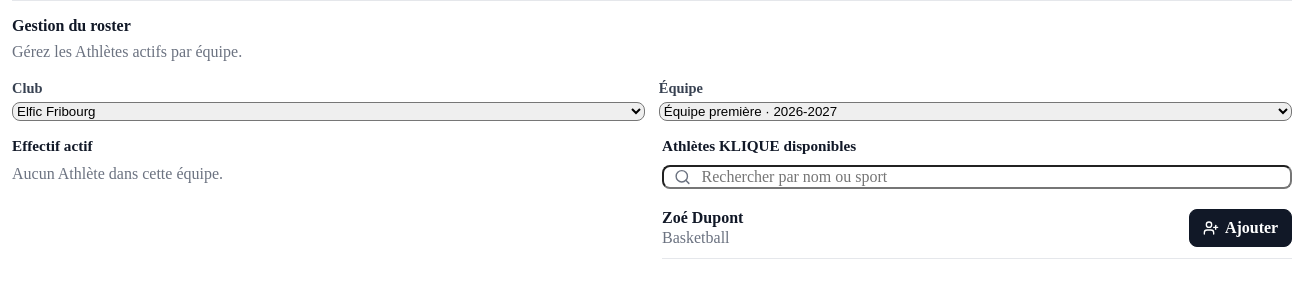
Test: Club roster Admin UI › adds an Athlete with the strict payload and refreshes both lists
The width and height of the screenshot is (1304, 301).
Click the button with aria-label "Ajouter Zoé Dupont".
click(1240, 228)  # box [1189,209,1292,247]
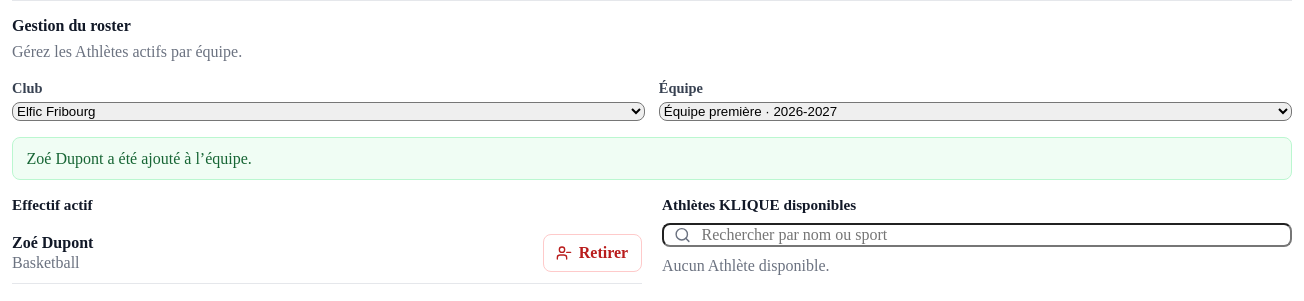
Expected: the element showing "Zoé Dupont Basketball Retirer" is shown, [12,223,642,284]
Now the message "Zoé Dupont a été ajouté à l’équipe." is shown, box [12,137,1292,180]
